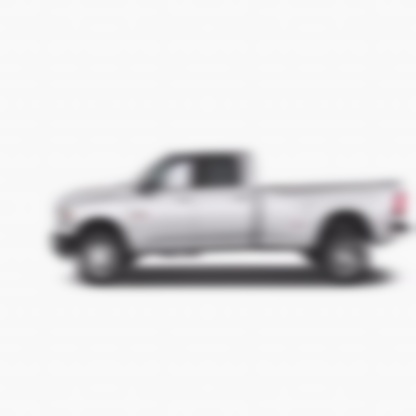Vehicle: (53, 152, 410, 286)
